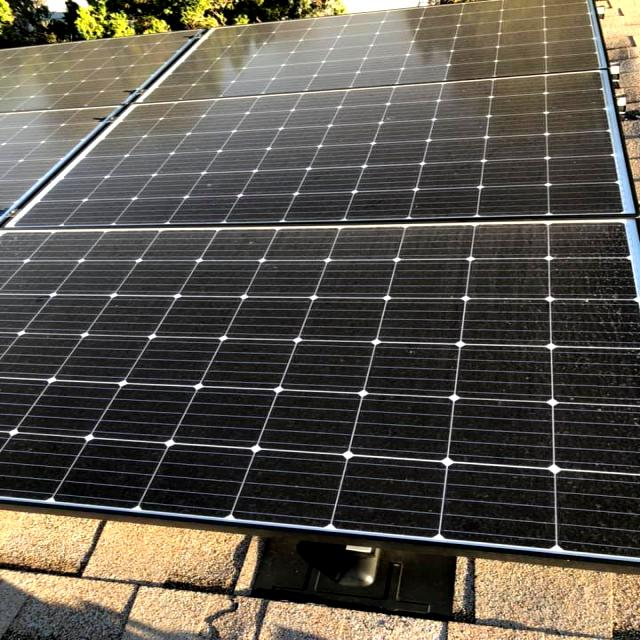crack: (109, 5, 640, 164), (71, 104, 640, 235), (137, 250, 523, 420), (363, 358, 640, 536), (41, 316, 302, 492)
